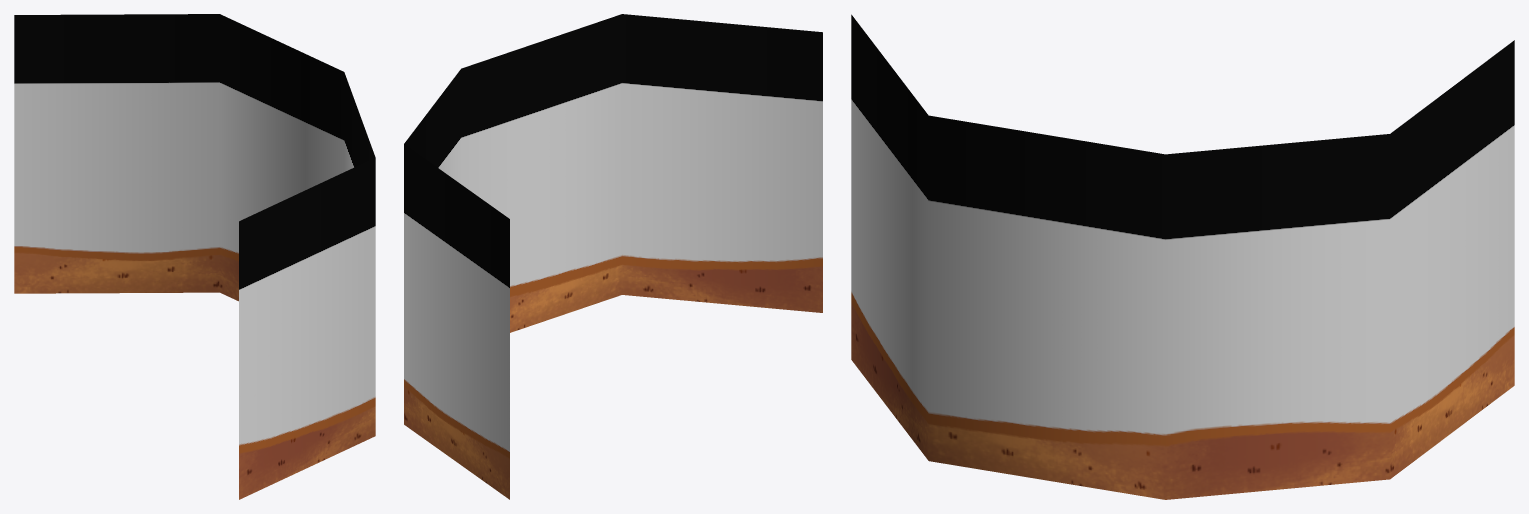
Rendered from sea.fbx.
The picture shows the model from 3 angles, left to right: view 1: azimuth 30°, elevation 25°; view 2: azimuth 150°, elevation 25°; view 3: azimuth 270°, elevation 25°; orthographic projection. The views are drawn at different scales.
Visible parts, largest first — view 1: Sphere.004; view 2: Sphere.004; view 3: Sphere.004.
Boxes of the visible parts, x1=… form: Sphere.004: x1=14, y1=14, x2=375, y2=499; Sphere.004: x1=404, y1=14, x2=822, y2=499; Sphere.004: x1=851, y1=14, x2=1514, y2=499.
Bounding box in the file's own units: 98.6 × 197 × 113.
